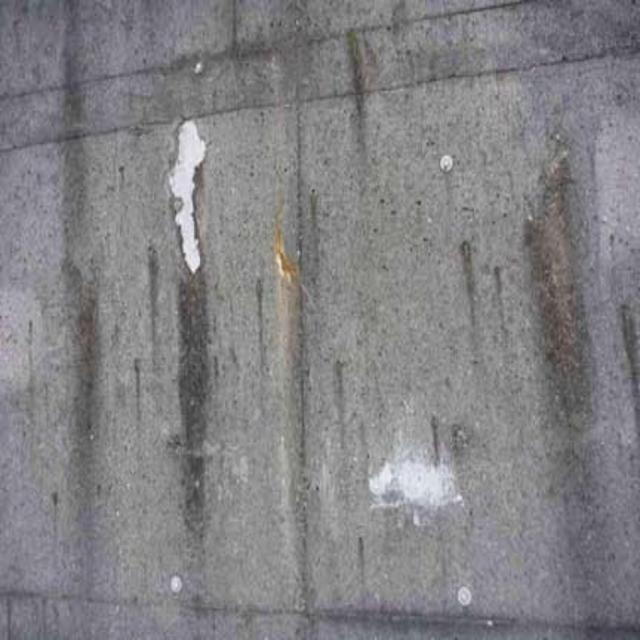freelime: (154, 108, 223, 286), (357, 460, 484, 519)
